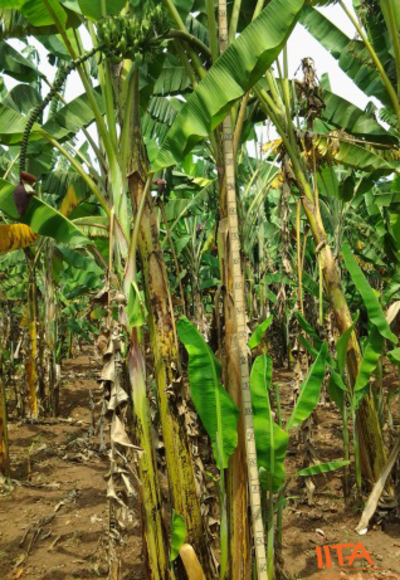bananaHand: (90, 6, 174, 60)
